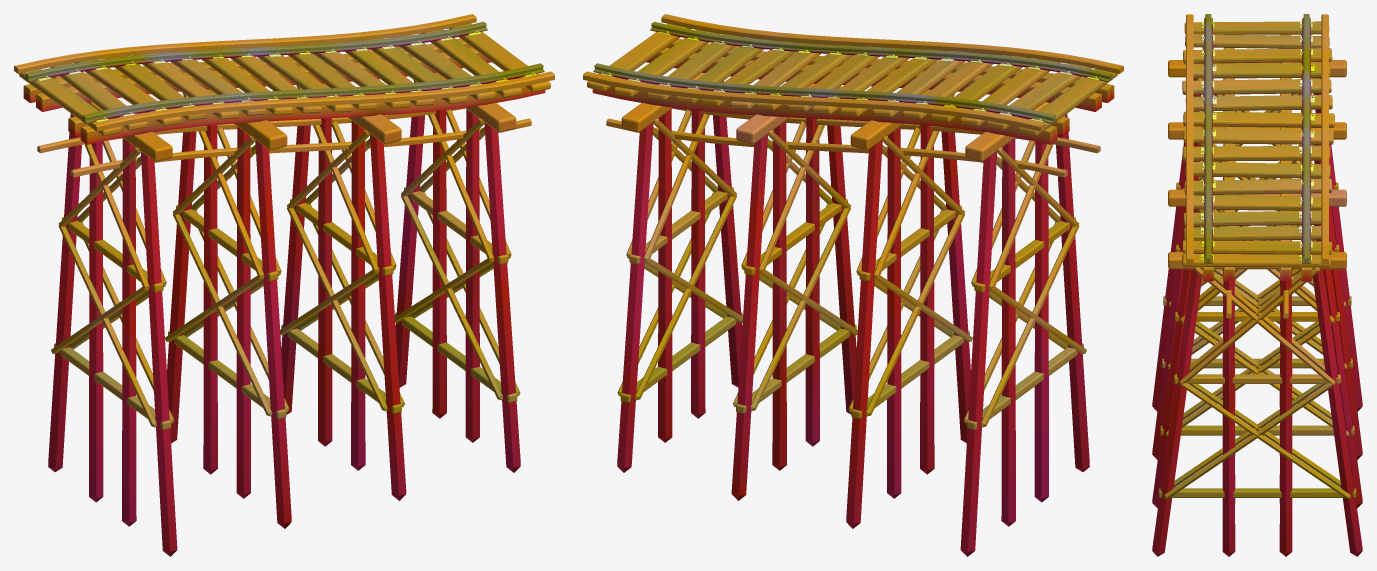
Rendered from Track_Ramp_Down_12m.fbx.
3 renders of one model, left to right at view 1: azimuth 30°, elevation 25°; view 2: azimuth 150°, elevation 25°; view 3: azimuth 270°, elevation 25°, orthographic. The views are drawn at different scales.
Visible parts, largest first — view 1: Track_Ramp_Down_12m; view 2: Track_Ramp_Down_12m; view 3: Track_Ramp_Down_12m.
Boxes of the visible parts, <box> form: Track_Ramp_Down_12m: <box>14,14,554,556</box>; Track_Ramp_Down_12m: <box>583,14,1123,556</box>; Track_Ramp_Down_12m: <box>1152,14,1362,556</box>.
Size of the model in its own units: 12 by 10.85 by 5.53.
